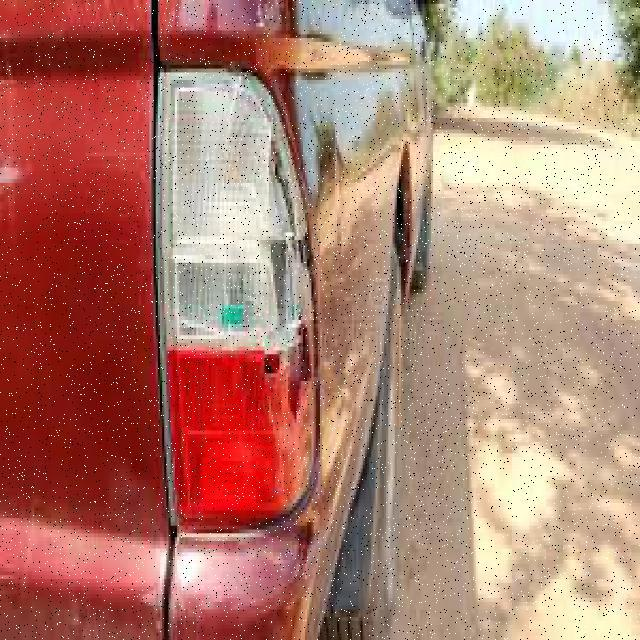Taillight-Damage: (122, 50, 333, 568)
